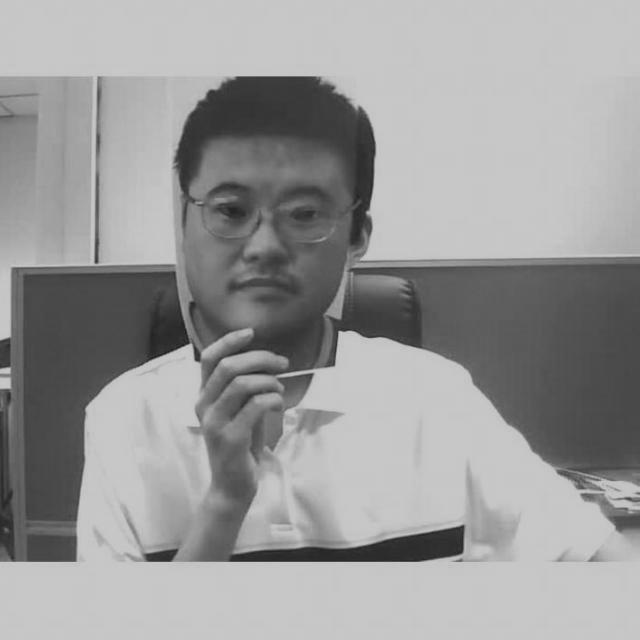fake: (164, 76, 366, 384)
